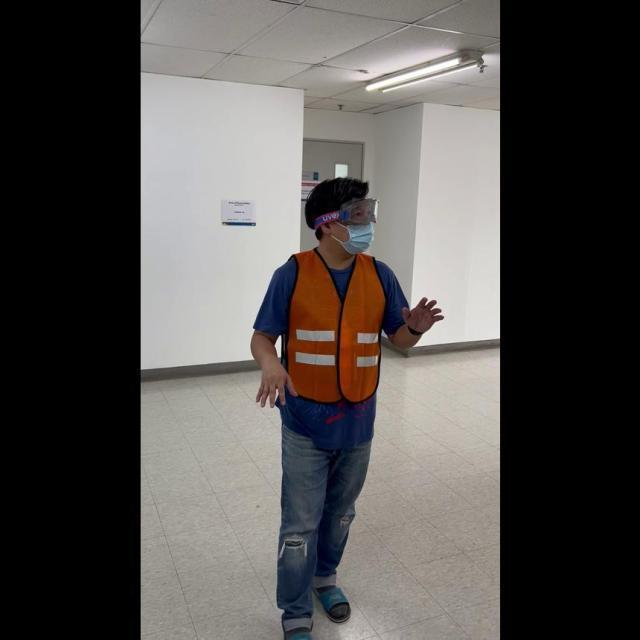bare_hand: (251, 350, 295, 409), (401, 290, 442, 334)
